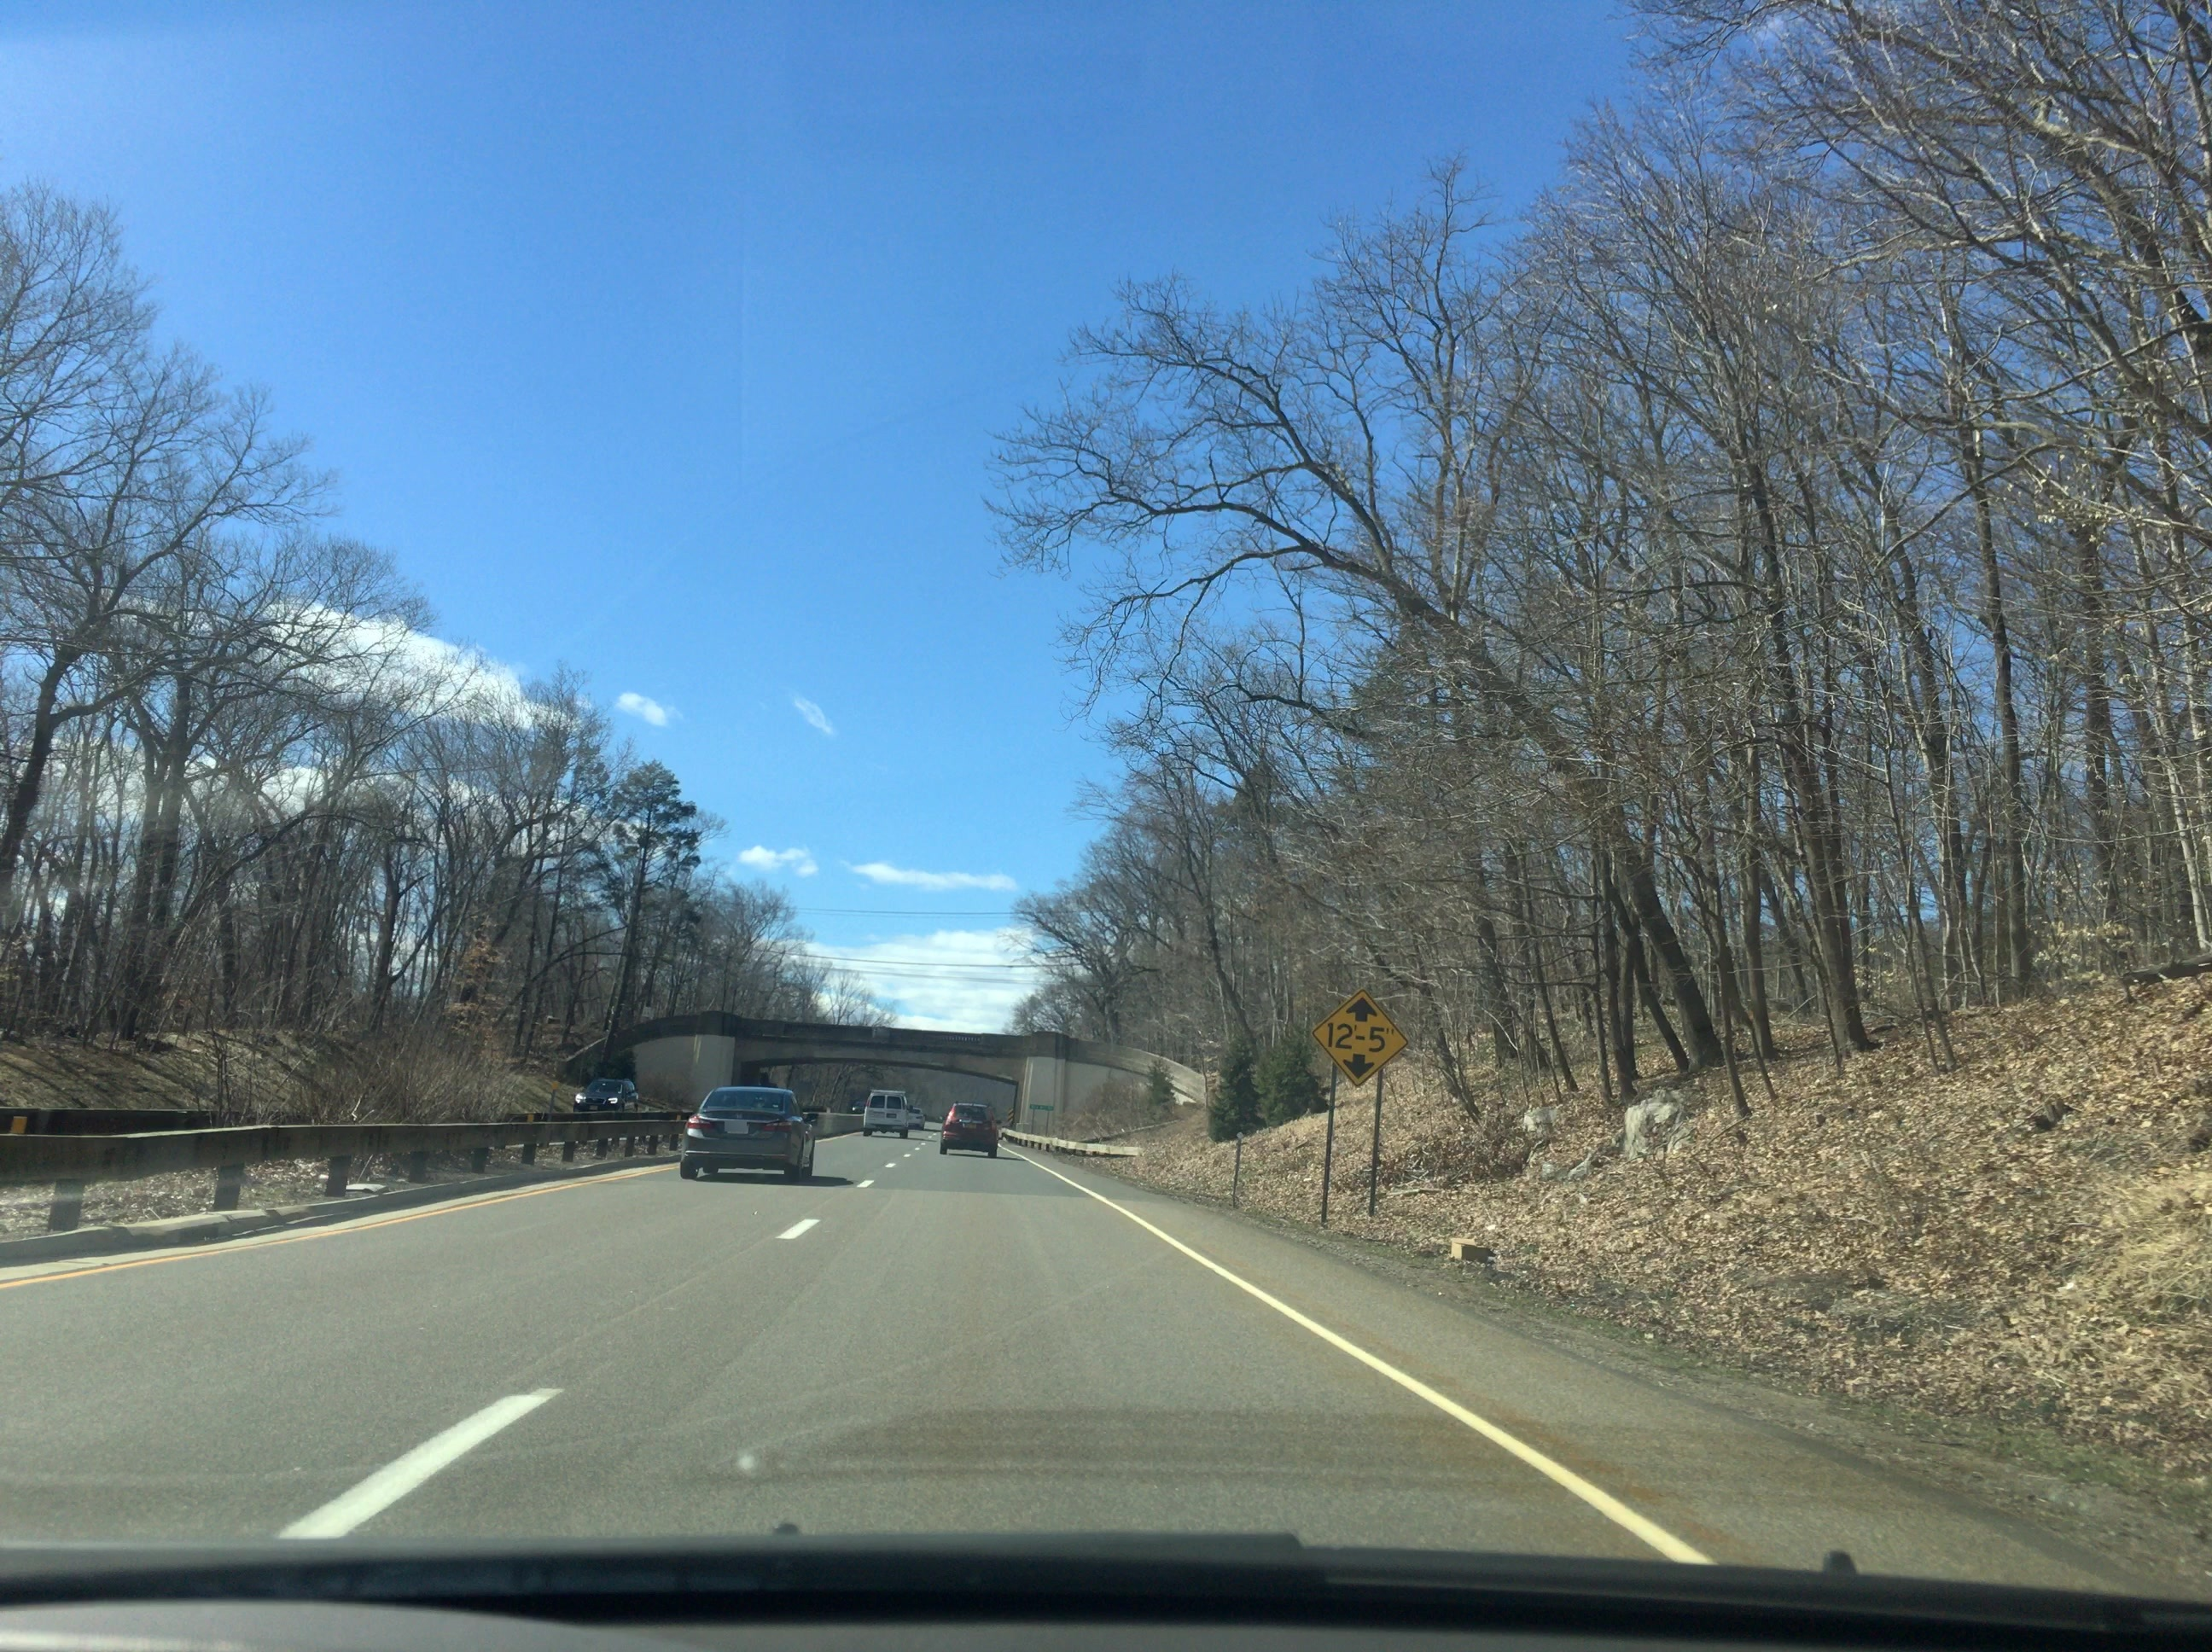low-clearance-sign: (1312, 986, 1410, 1088)
